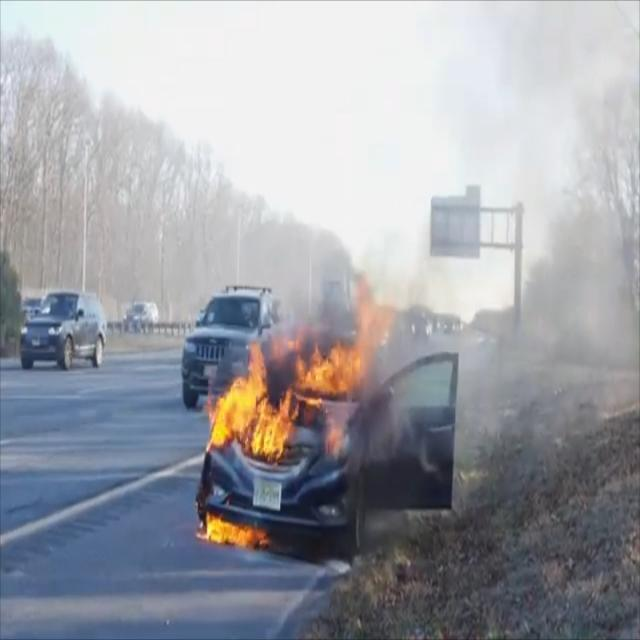fire: (192, 273, 394, 554)
